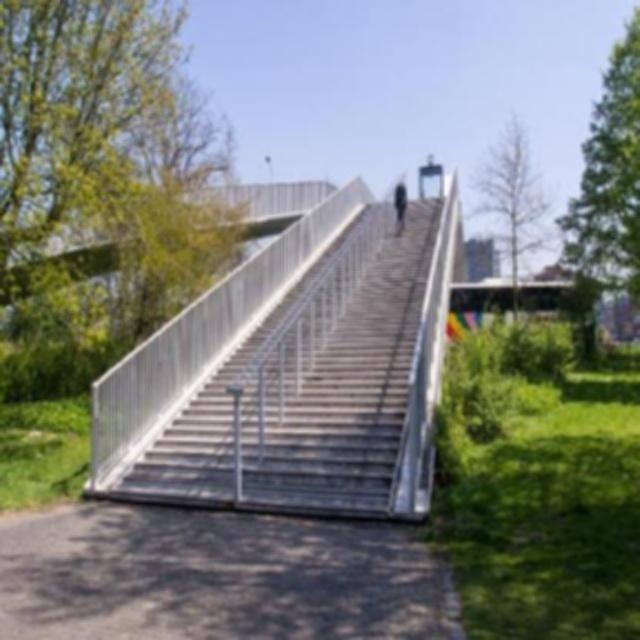stair: (111, 196, 449, 520)
